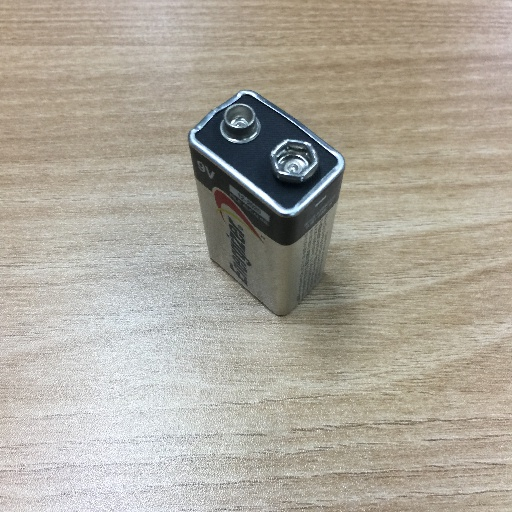Battery_3: (181, 72, 361, 341)
